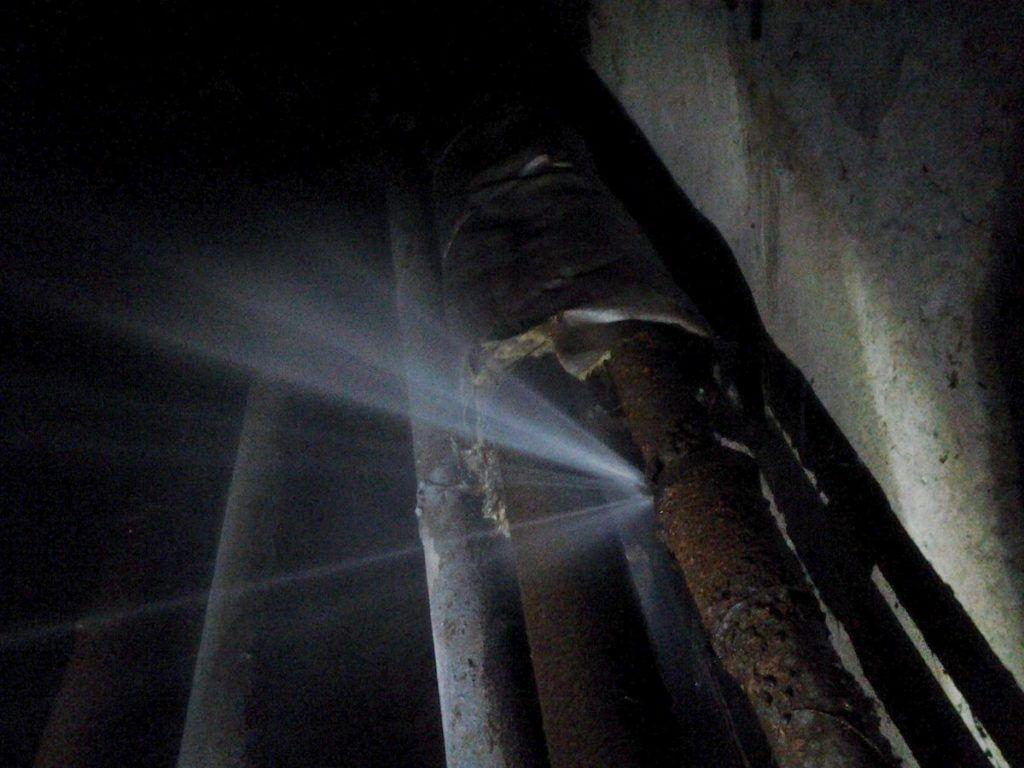pipe burst: (54, 219, 671, 587)
